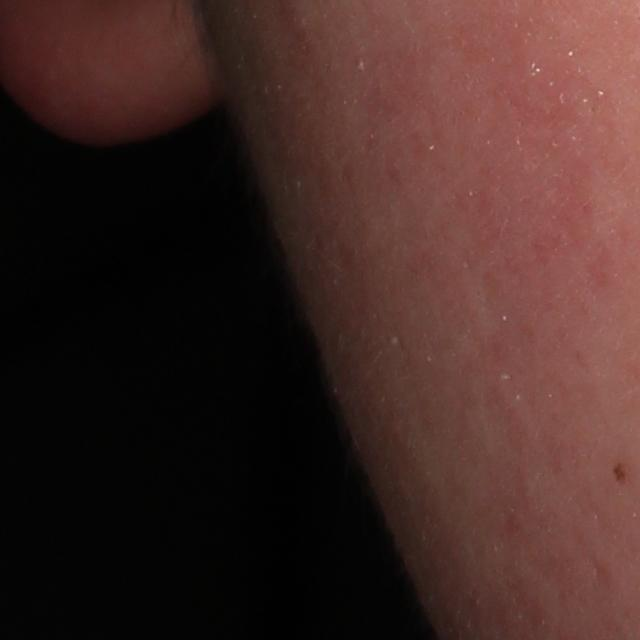nevus: (611, 456, 629, 489)
